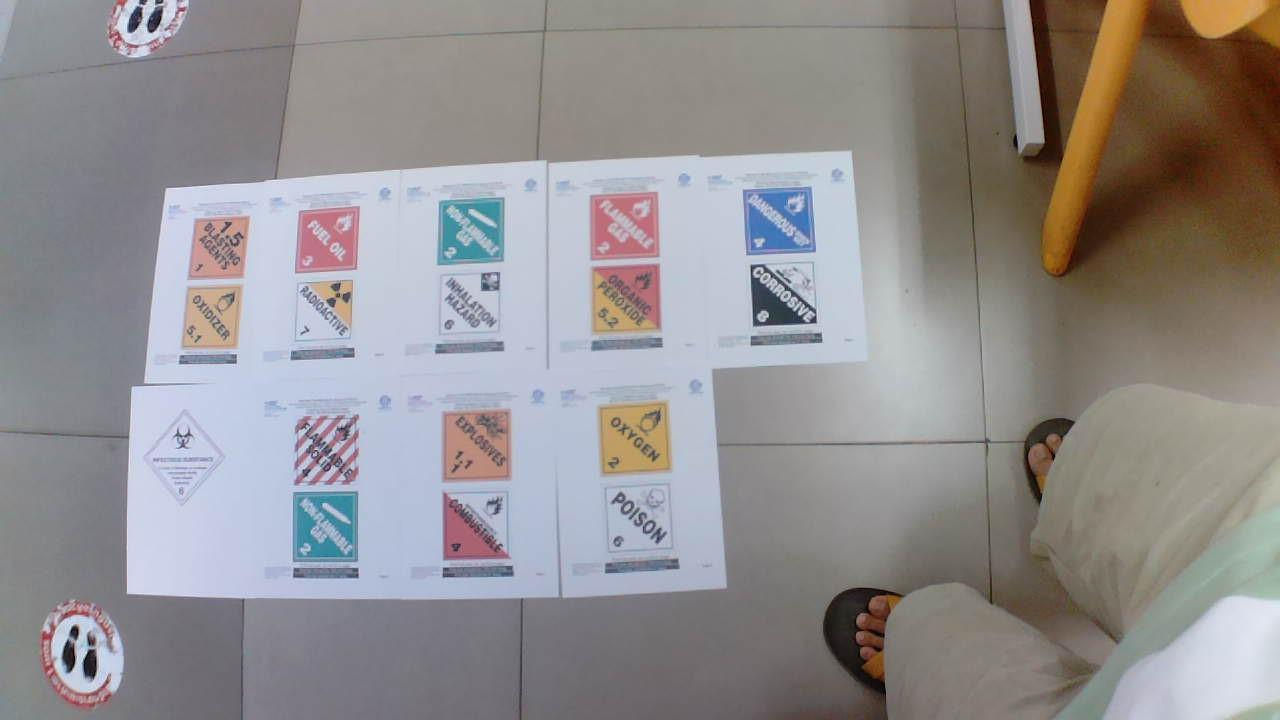corrosive: (747, 263, 824, 329)
dangerous-when-wet: (741, 188, 820, 258)
explosive: (442, 410, 516, 486), (185, 216, 254, 283)
flammable: (586, 196, 662, 259), (297, 208, 365, 273)
flammable-solid: (292, 415, 363, 492)
infectious-substance: (141, 407, 231, 508)
non-flammable-gas: (434, 199, 509, 264), (294, 495, 358, 563)
organic-peroxide: (589, 267, 667, 335)
oxidizer: (599, 403, 677, 476), (181, 290, 245, 353)
poison: (603, 483, 678, 553), (438, 273, 509, 337)
radioactive: (293, 280, 361, 342)
spontaneously-combustible: (442, 491, 517, 563)
